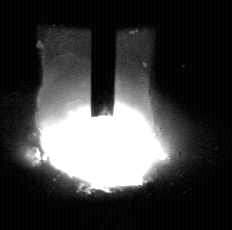arame: (91, 0, 116, 118)
poca: (33, 0, 169, 230)
